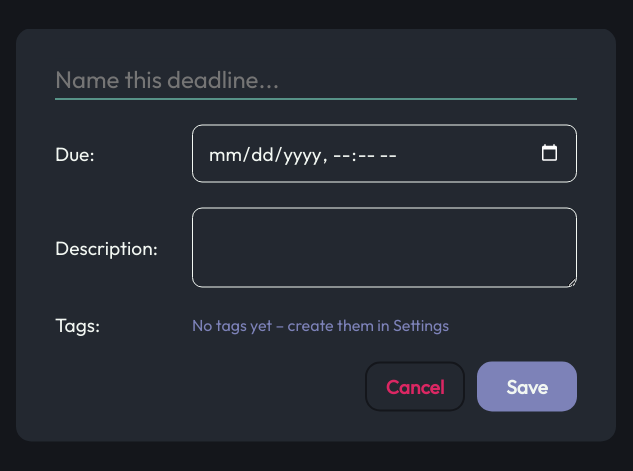
Scenario: MutateDeadlineForm › requires a date
Type "Exam" into the field named "Title" at (316, 79), box [55,58,577,100]
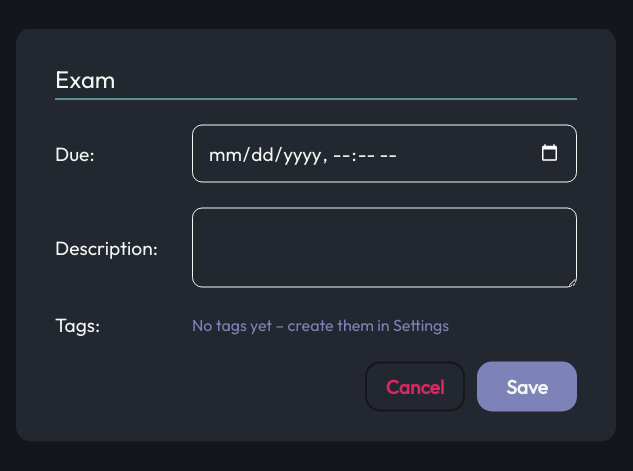
Click the button "Save" at (527, 386), box [477,362,577,412]
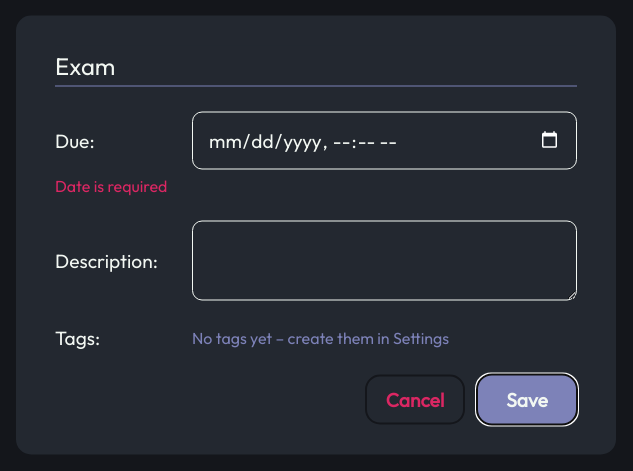
Expected: the text "Date is required" is shown, [55,176,167,196]
